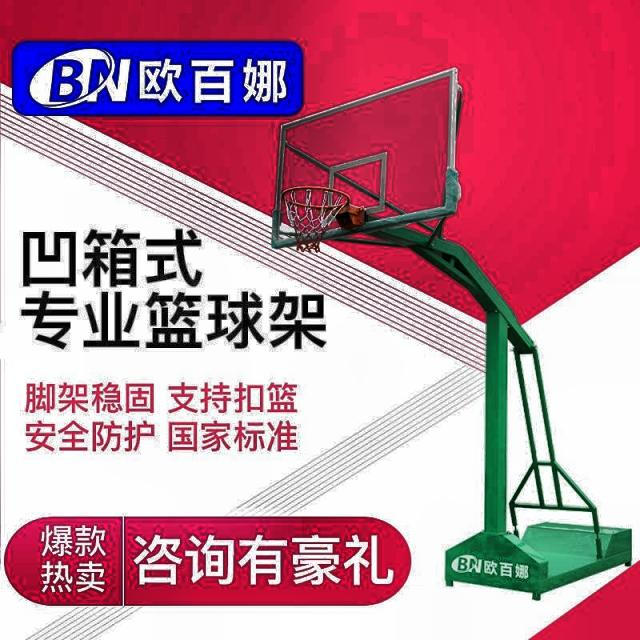rim: (280, 185, 351, 254)
